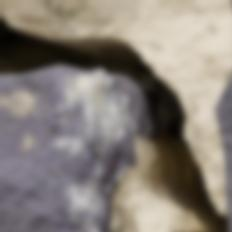brick: (0, 66, 134, 231), (215, 76, 231, 231)
crack: (0, 0, 229, 231)
